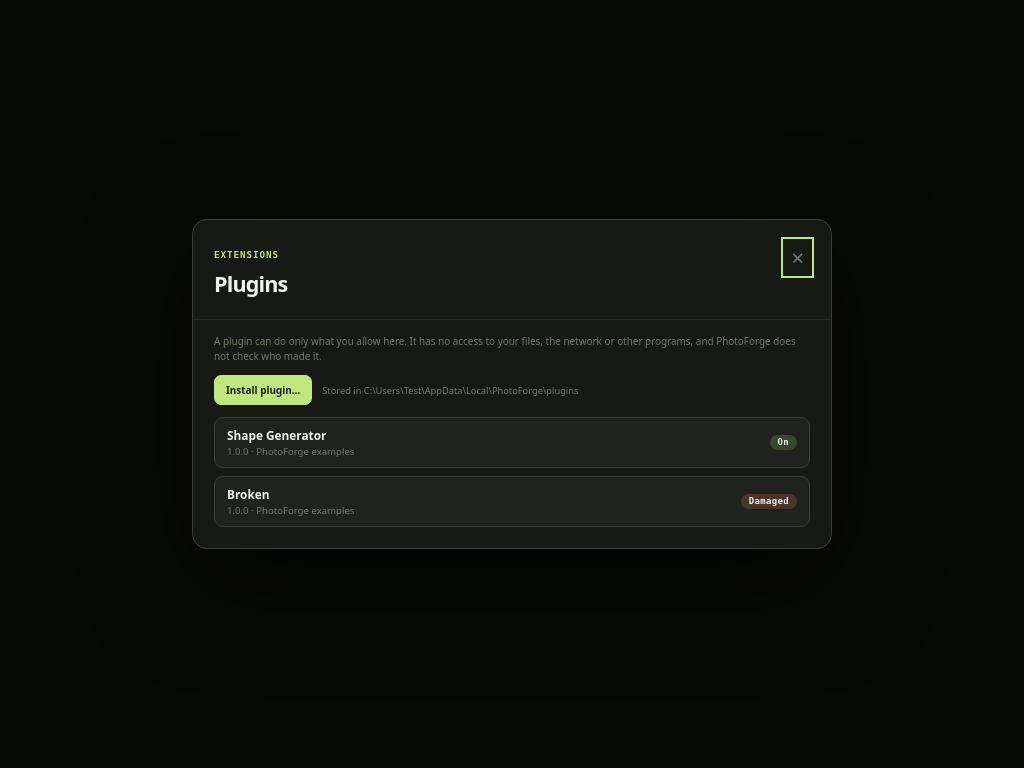
Test: the plugin manager › opens a plugin to show its filters, commands and permissions, and reports damage in words
expect the heading "Plugins" is shown: met, box [214,269,288,298]
Click the button "Shape Generator 1.0.0 · PhotoForge examples" at (291, 443), box [227,427,354,458]
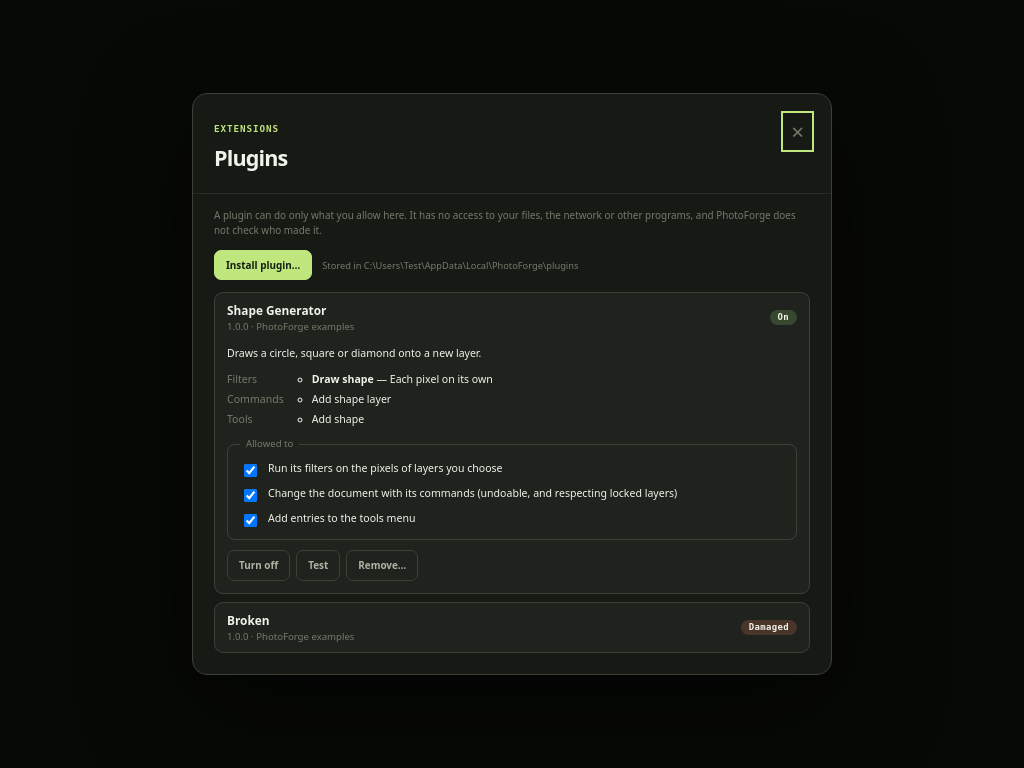
expect the text "Draw shape" is shown: met, box [312,372,374,386]
expect the list item "Draw shape — Each pixel on its own" is shown: met, box [312,372,493,386]
expect the list item "Add shape layer" is shown: met, box [312,392,391,406]
Click the button "Broken 1.0.0 · PhotoForge examples" at (291, 627), box [227,612,354,643]
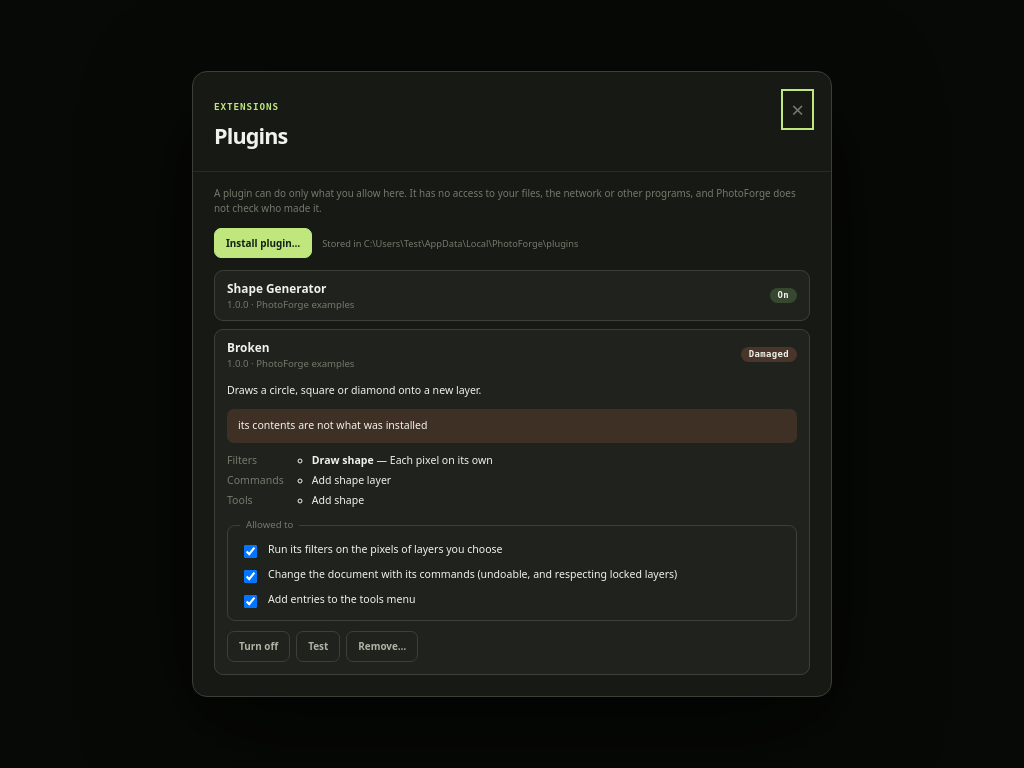
expect the text "its contents are not what was installed" is shown: met, box [227,409,797,443]
